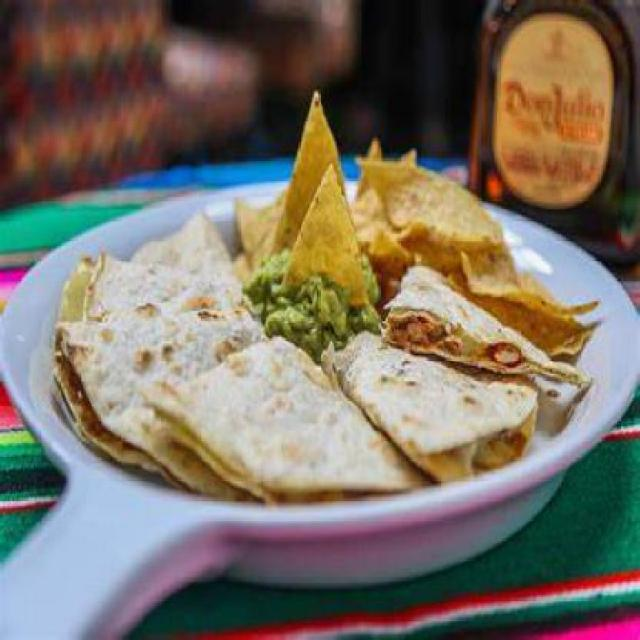chicken quesadilla: (58, 217, 590, 506)
guacamole: (244, 238, 384, 347)
nachos: (236, 78, 602, 354)
